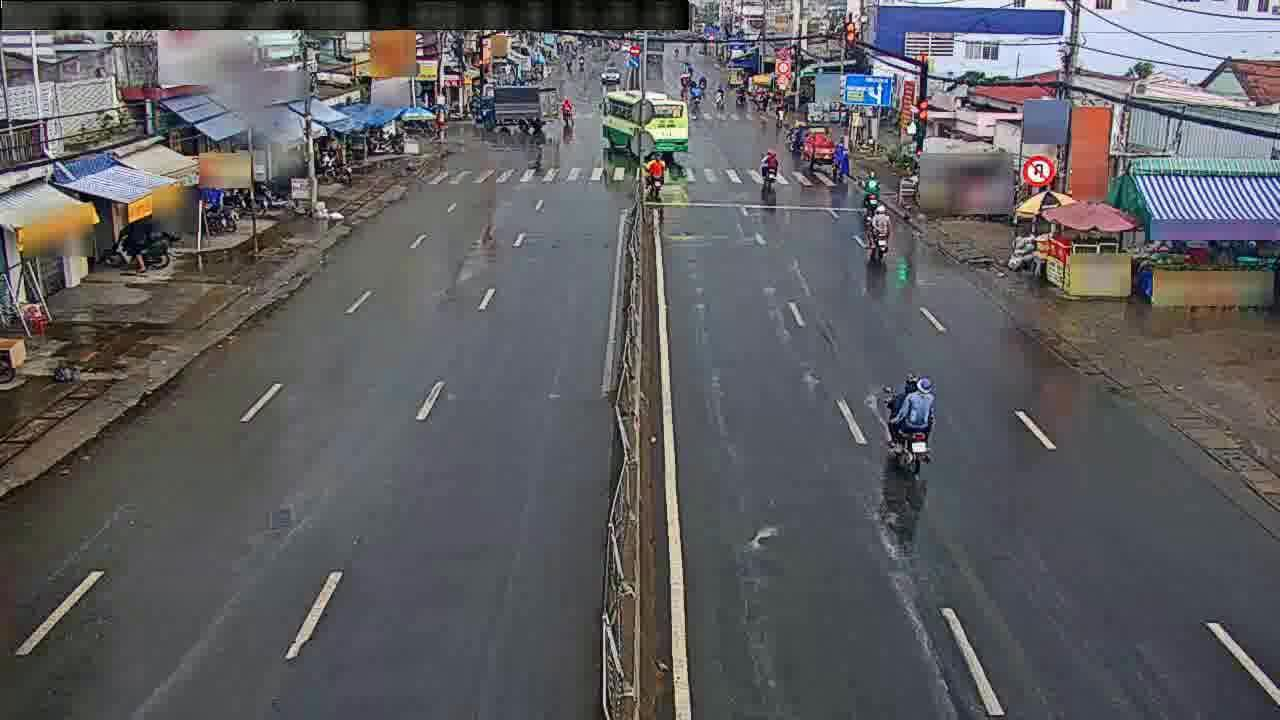14: (592, 87, 690, 159)
8: (467, 87, 561, 130)
motorbike: (873, 366, 946, 483), (859, 206, 899, 263), (636, 156, 667, 198), (757, 150, 784, 190), (860, 164, 880, 208)
